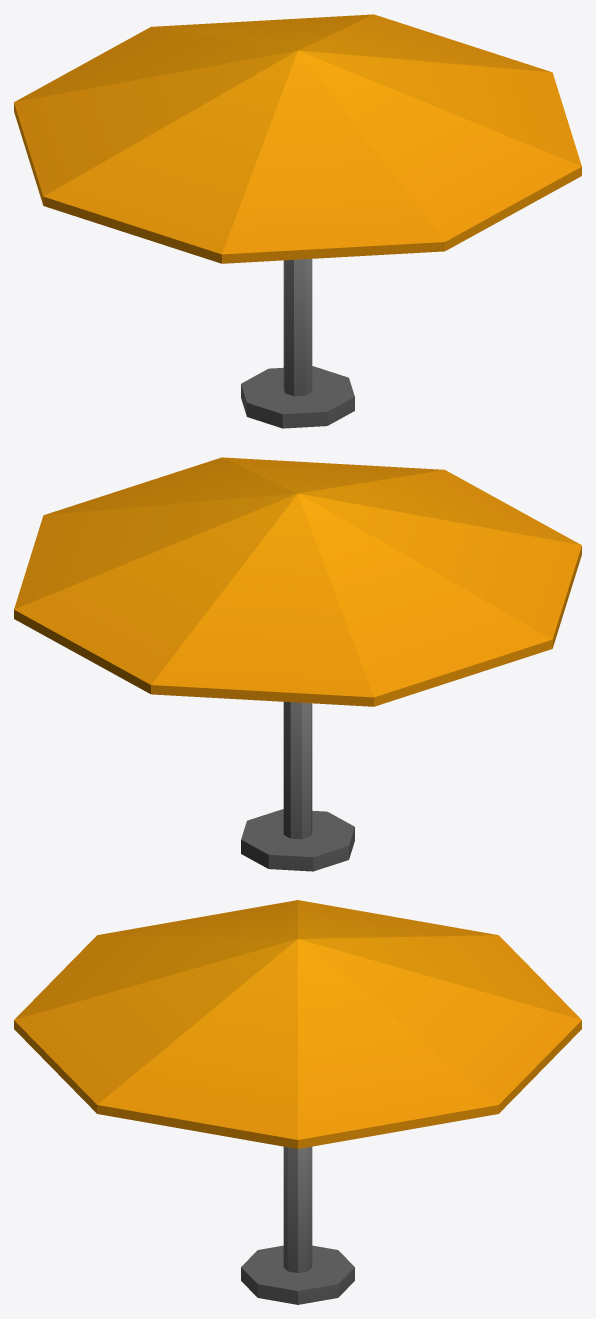
File: umbrella orange.fbx
3 views of the same model, one above another, from view 1: azimuth 30°, elevation 25°; view 2: azimuth 150°, elevation 25°; view 3: azimuth 270°, elevation 25° (orthographic). The views are drawn at different scales.
Visible parts, largest first — view 1: orange_umbrella; view 2: orange_umbrella; view 3: orange_umbrella.
Part boxes in pixels (x1,y1,x2,y2): orange_umbrella: (14,14,581,428); orange_umbrella: (14,457,581,871); orange_umbrella: (14,900,581,1304).
Size of the model in its own units: 319 by 212 by 319.
Materials: 1 (1 with a texture image).
